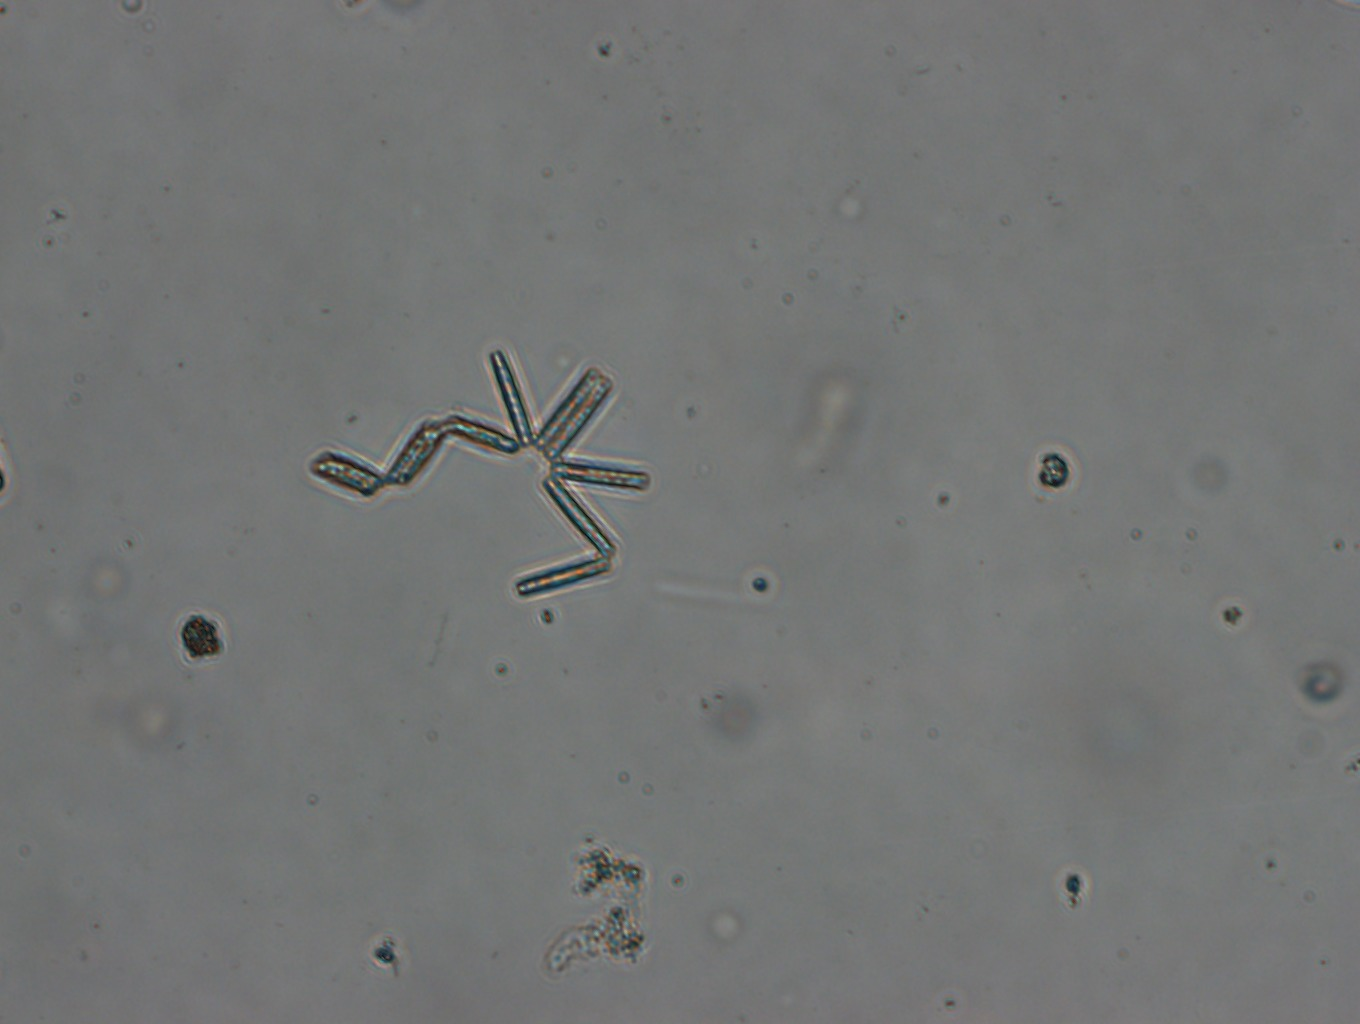thalassionema nitzschioides: (305, 345, 648, 596)
